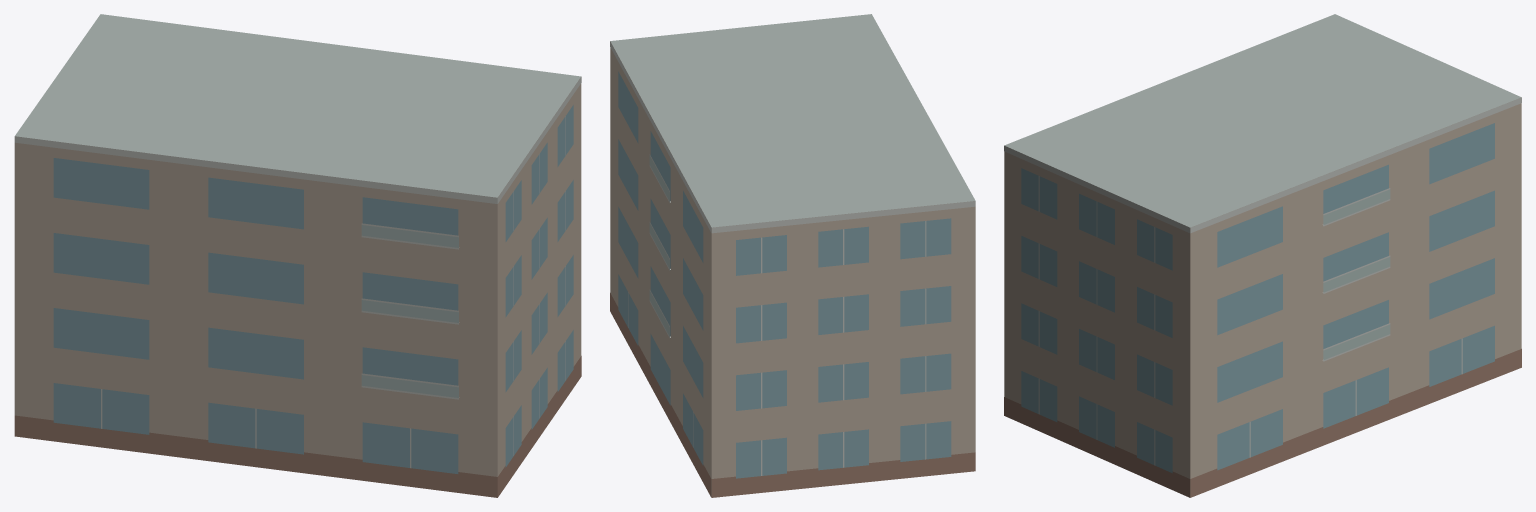
The model's file is survey-upis-32597820.glb.
3 renders of one model, left to right at view 1: azimuth 30°, elevation 25°; view 2: azimuth 150°, elevation 25°; view 3: azimuth 270°, elevation 25°, orthographic. The views are drawn at different scales.
Parts seen in each view (by area): view 1: survey-upis-32597820.tmp; view 2: survey-upis-32597820.tmp; view 3: survey-upis-32597820.tmp.
Part boxes in pixels (box(x1,y1,x2,y2)): survey-upis-32597820.tmp: box(14, 14, 581, 497); survey-upis-32597820.tmp: box(610, 14, 975, 497); survey-upis-32597820.tmp: box(1004, 14, 1521, 497).
Bounding box in the file's own units: 19.34 × 11.4 × 19.8.
